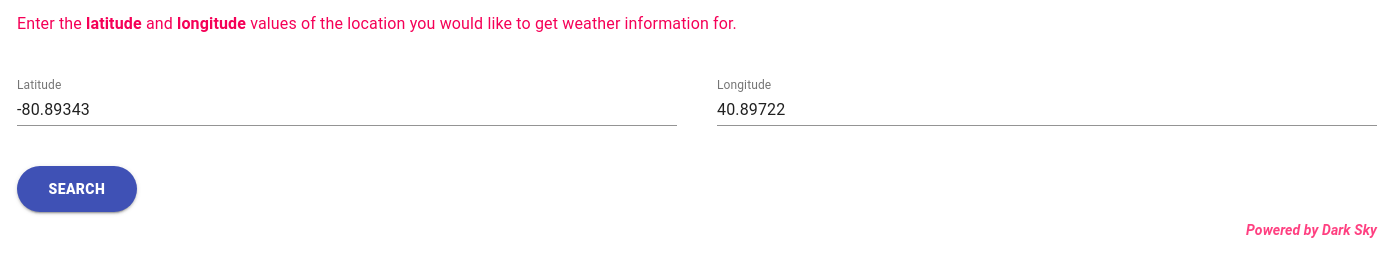
<Form /> › Error message is shown with an incorrect latitude value
This screenshot has width=1395, height=277.
In the field with test id "latitude": (347, 110) [17,94,677,126], type "40.39s"
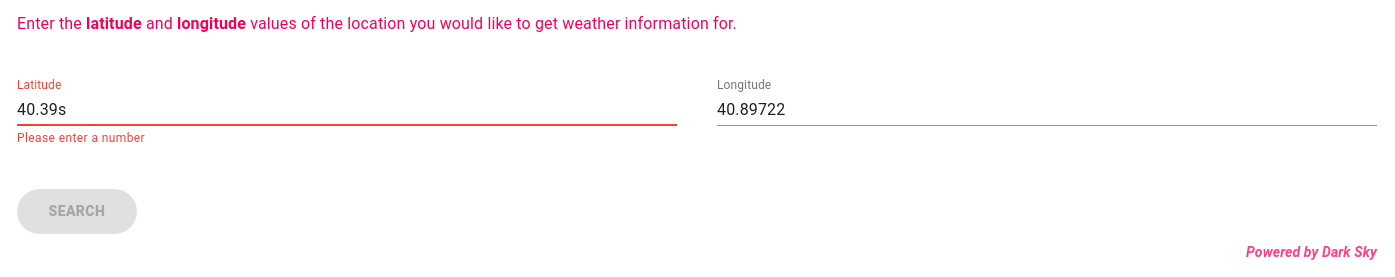
Expected: the text with id "latitude-helper-text" reads "Please enter a number", [17,131,145,145]
